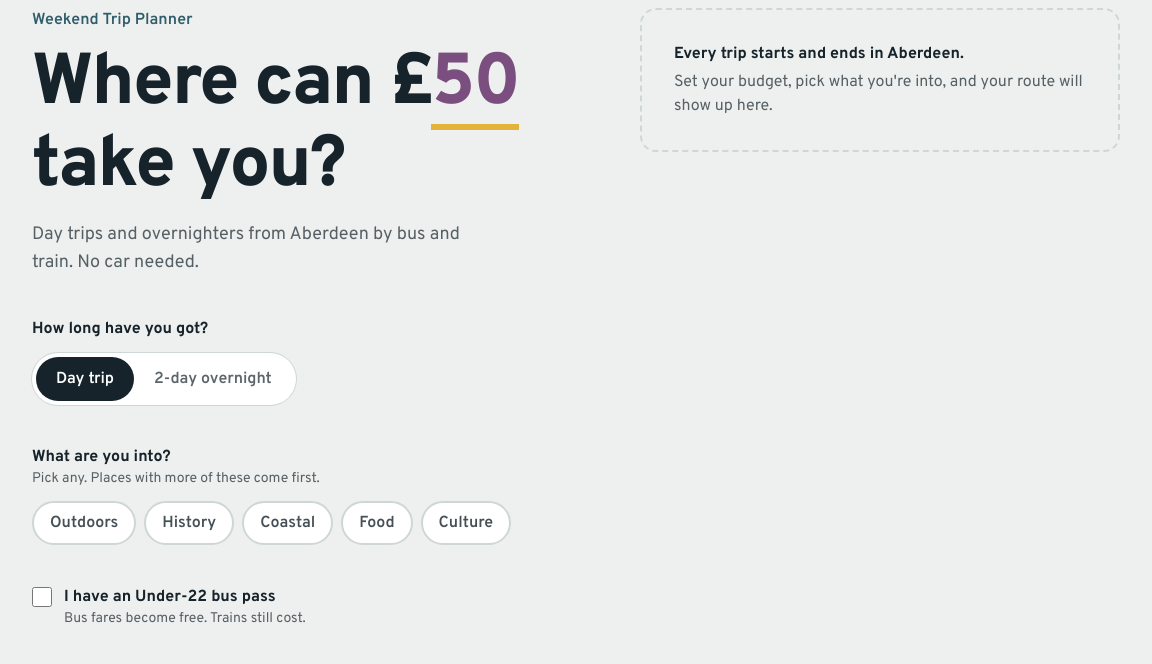
Weekend Trip Planner › shows fallback when budget is too small to travel anywhere
Replace the text in the number field with "0" at (475, 89), box [431,48,519,130]
(page scrolled)
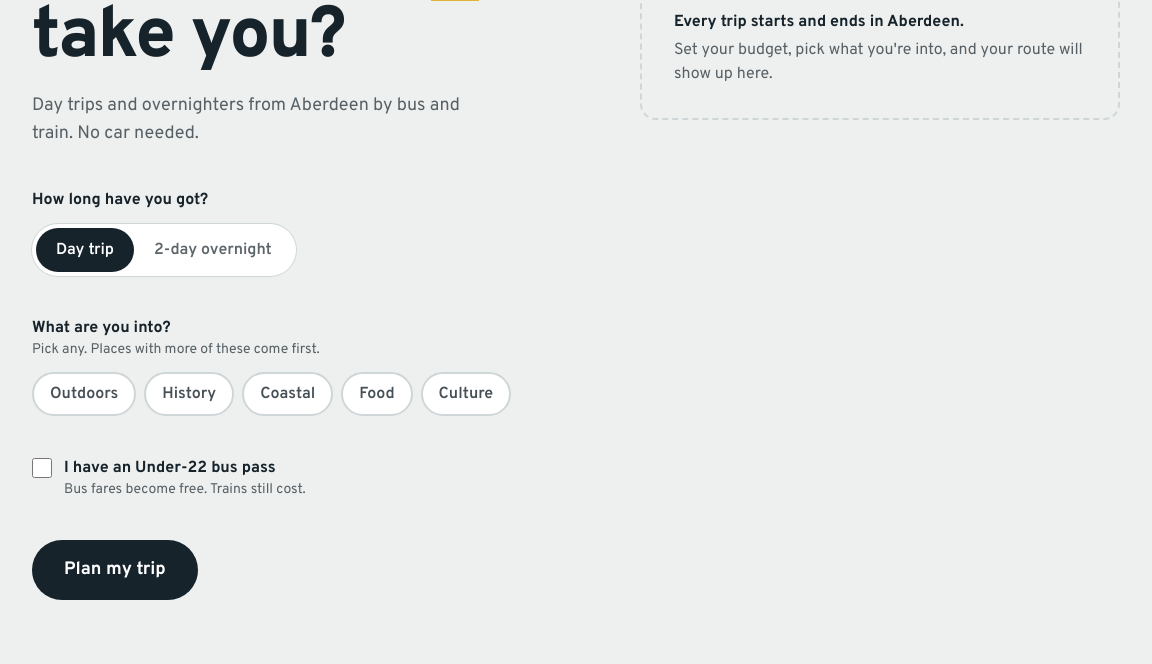
Click the button "Plan my trip" at (115, 570), box [32,540,198,600]
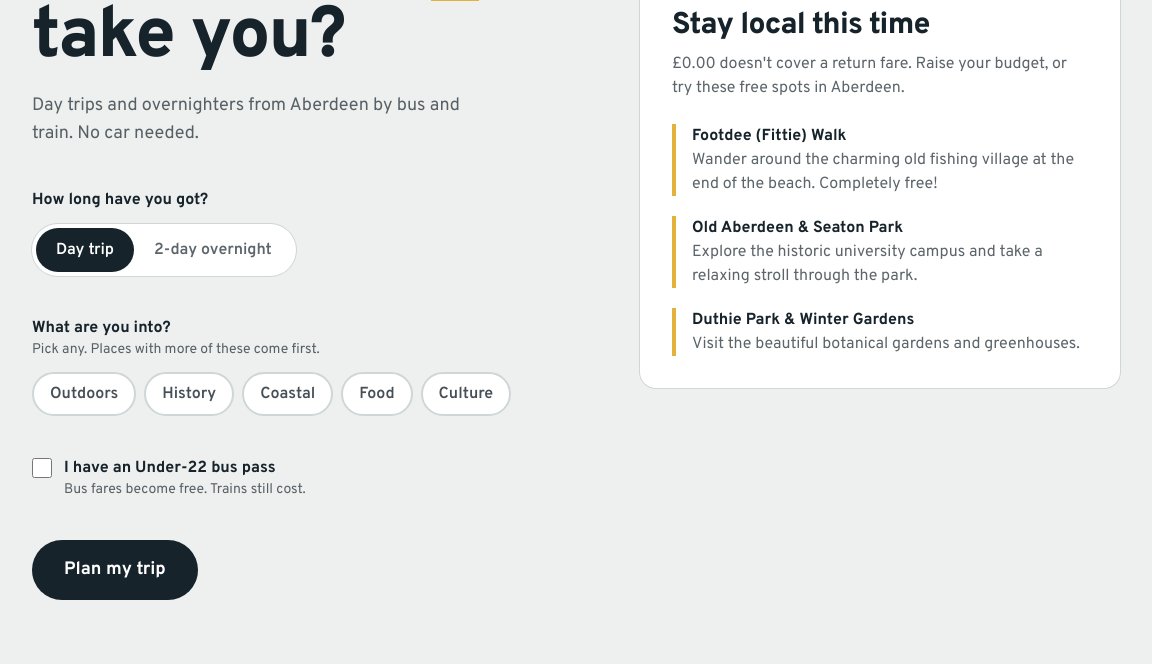
expect the heading "Stay local this time" is shown: met, box [672,7,930,44]
expect the text "Footdee (Fittie) Walk" is shown: met, box [692,126,846,146]
